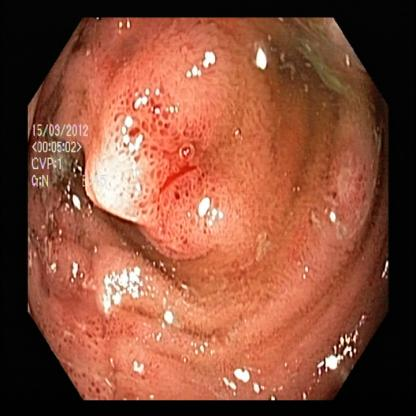Polyps: (158, 159, 239, 268)
